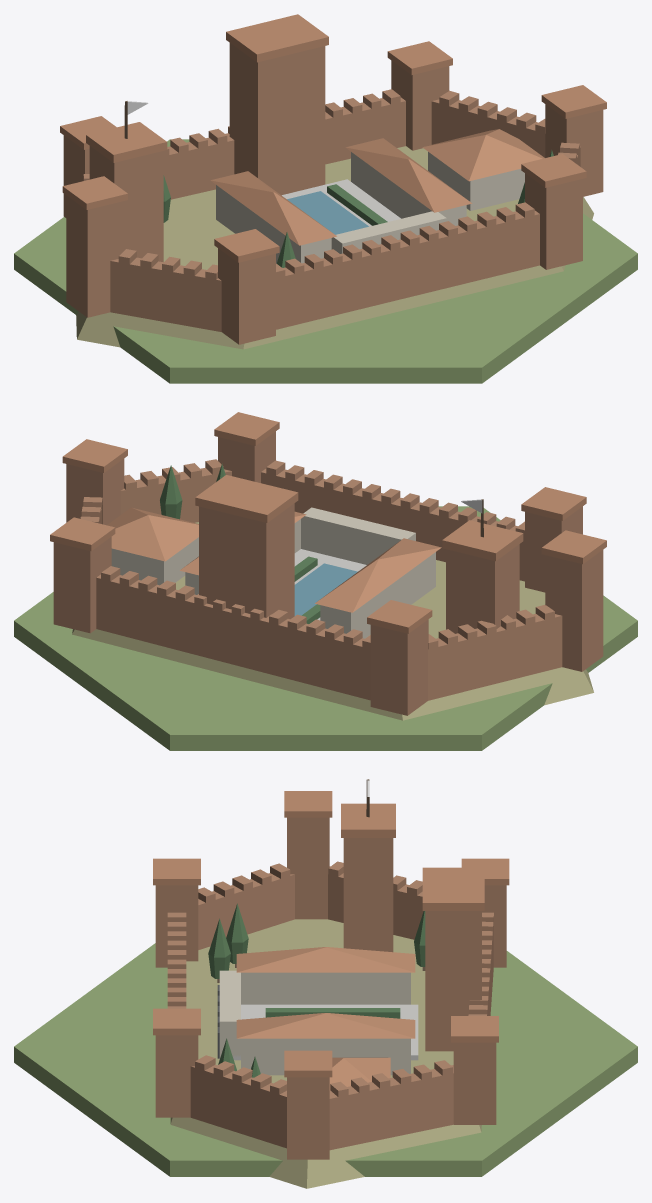
The model's file is alhambra.glb.
The picture shows the model from 3 angles, top to bottom: view 1: azimuth 30°, elevation 25°; view 2: azimuth 150°, elevation 25°; view 3: azimuth 270°, elevation 25°; orthographic projection.
Parts seen in each view (by area): view 1: LOD0; view 2: LOD0; view 3: LOD0.
Boxes of the visible parts, left/top/right/bottom form: LOD0: left=14, top=14, right=637, bottom=383; LOD0: left=14, top=412, right=637, bottom=750; LOD0: left=14, top=779, right=637, bottom=1188.
Size of what is drawn, in the model's own units: 1.7 by 0.61 by 1.76.
